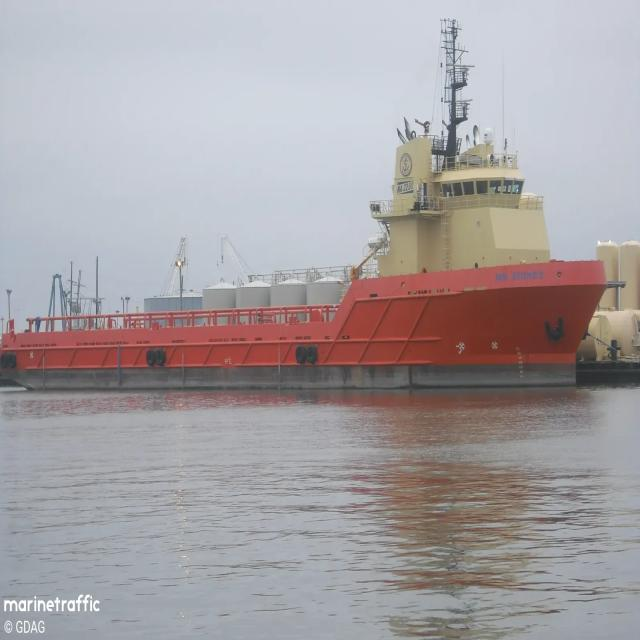Offshore: (0, 20, 607, 389)
